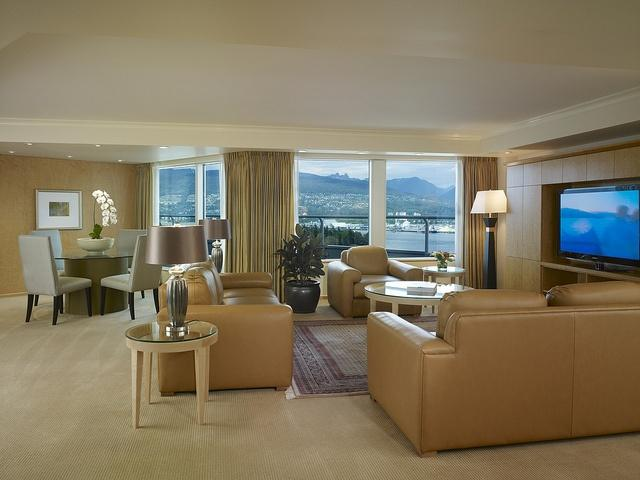AIO PC-Monitor-TV: (557, 183, 639, 269)
Kursi: (17, 233, 93, 325), (99, 234, 161, 319)
